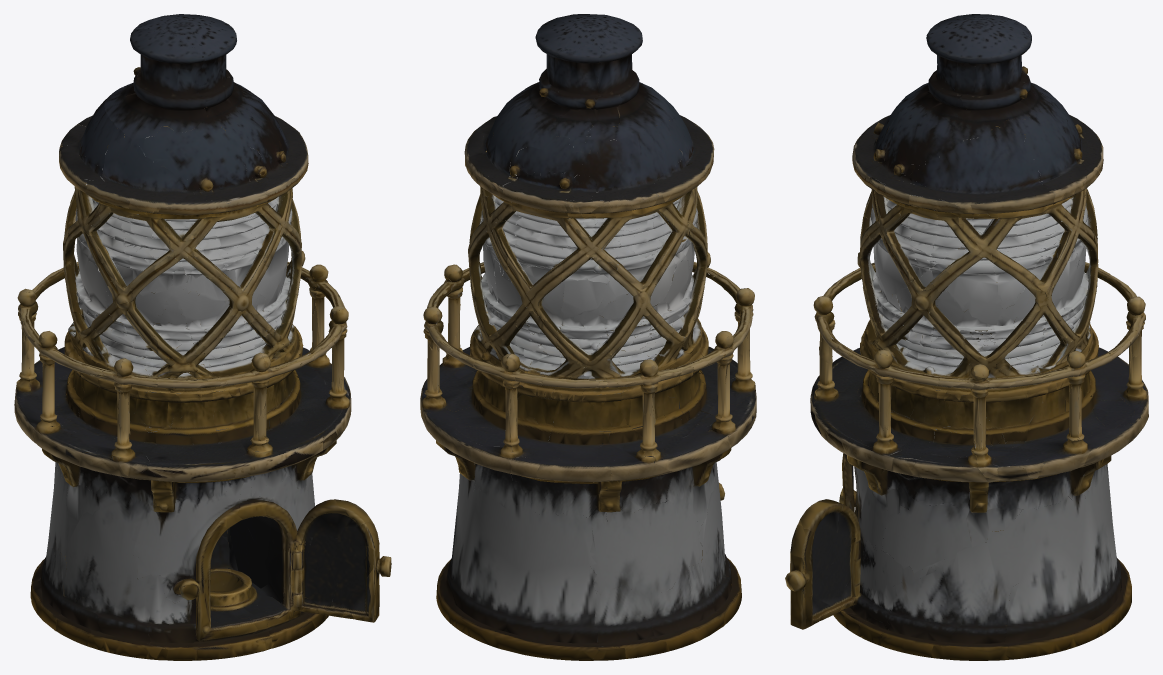
The model's file is lhi_arc_lamp_open.glb.
3 views of the same model, side by side, from view 1: azimuth 30°, elevation 25°; view 2: azimuth 150°, elevation 25°; view 3: azimuth 270°, elevation 25° (orthographic).
Parts seen in each view (by area): view 1: Mesh_0; view 2: Mesh_0; view 3: Mesh_0.
Part boxes in pixels (x1,y1,x2,y2): Mesh_0: (14,14,391,660); Mesh_0: (420,14,756,660); Mesh_0: (785,14,1148,660).
Size of the model in its own units: 1.01 by 1.9 by 1.1.
1 material, 1 textured.
